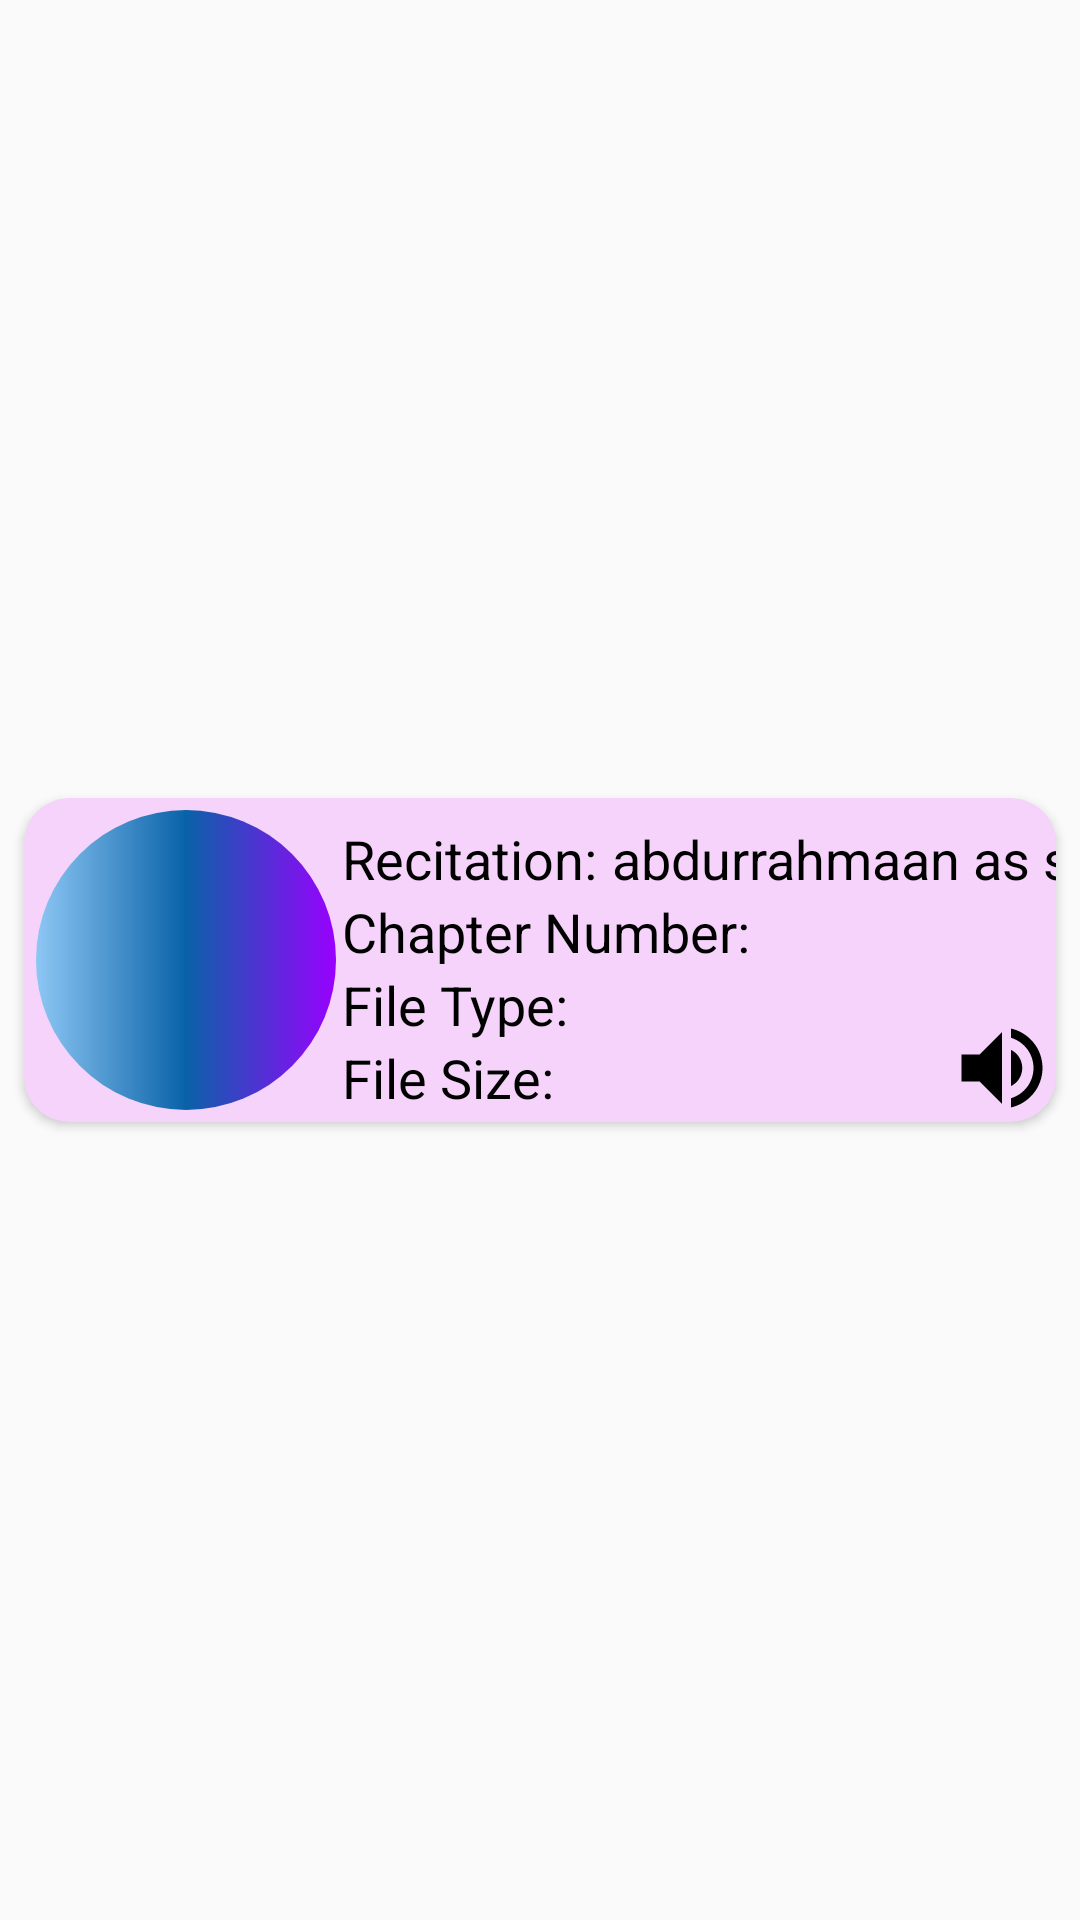

Point at icon controls on the screen. Image size 1080x1920, points as point (x, y).
speaker: point (1002, 1068)
